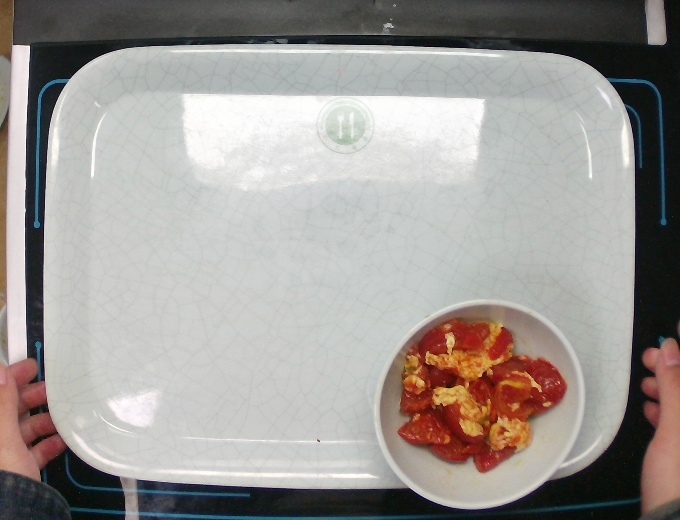JYsf-Fan_Wan: (372, 297, 587, 513)
